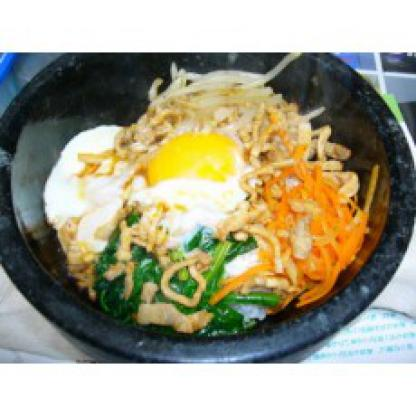bibimbap: (38, 49, 373, 362)
